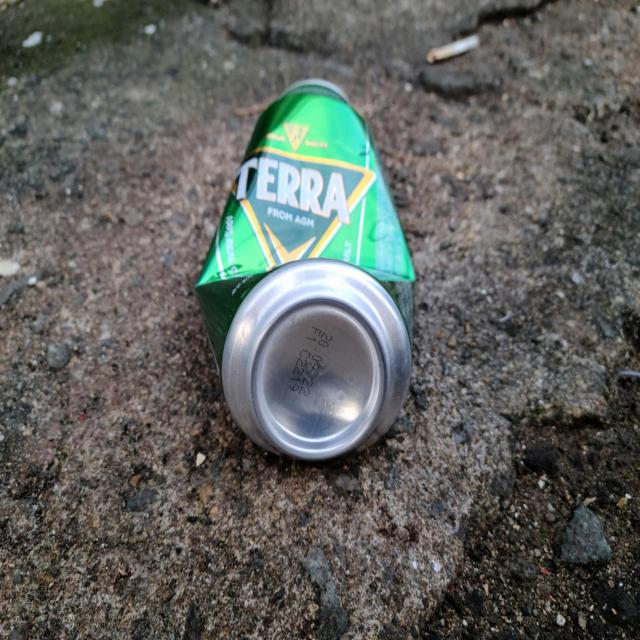can: (196, 79, 415, 461)
